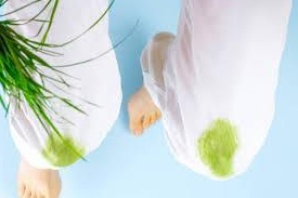earth: (198, 120, 236, 175), (47, 142, 77, 164)
